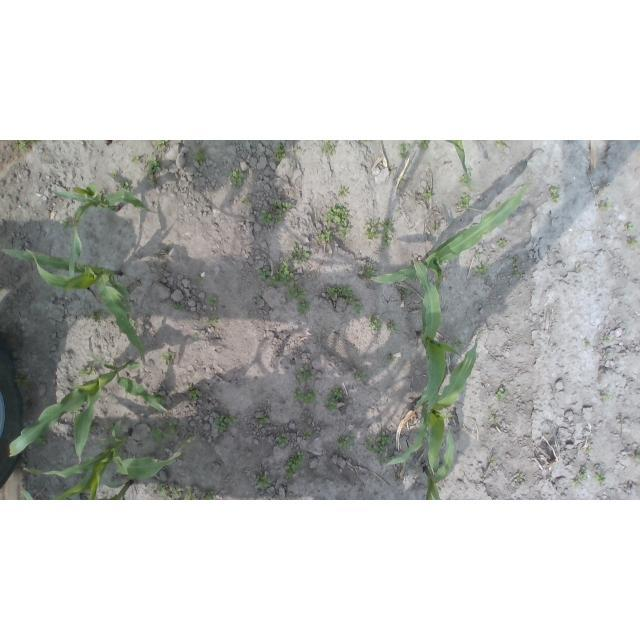Maize: (9, 337, 169, 464), (367, 181, 534, 284), (0, 246, 146, 362), (24, 416, 185, 500), (386, 333, 479, 466), (51, 181, 159, 278), (423, 425, 458, 500), (430, 141, 474, 192), (19, 481, 133, 500)
Weeds: (324, 205, 351, 228), (328, 286, 357, 305), (367, 431, 391, 453), (285, 452, 306, 477), (276, 262, 296, 285), (157, 483, 184, 500), (324, 388, 343, 412), (256, 269, 280, 287), (295, 364, 313, 388), (289, 244, 310, 264), (215, 415, 237, 434), (285, 283, 307, 299), (381, 220, 393, 247), (337, 436, 356, 453), (365, 219, 380, 240), (296, 390, 317, 405), (270, 199, 292, 213), (256, 472, 272, 491), (146, 156, 162, 173), (297, 299, 312, 317), (151, 429, 170, 443), (230, 168, 243, 188), (32, 428, 48, 444), (456, 192, 470, 210), (369, 315, 384, 331), (275, 142, 286, 163), (14, 141, 29, 156), (188, 384, 201, 400), (194, 148, 206, 165), (380, 452, 397, 464), (152, 391, 166, 405), (13, 373, 27, 387), (352, 301, 365, 316), (276, 433, 289, 448), (338, 222, 350, 238), (360, 265, 376, 277), (399, 143, 410, 160), (322, 140, 335, 154), (476, 263, 489, 277), (260, 211, 272, 226), (460, 174, 472, 189), (548, 189, 560, 204), (80, 367, 97, 377), (320, 230, 333, 243), (120, 180, 133, 193), (400, 288, 413, 300), (594, 472, 606, 485), (184, 488, 196, 501), (258, 414, 268, 429), (628, 238, 640, 250), (154, 140, 168, 150), (495, 387, 505, 401), (92, 312, 104, 323), (168, 420, 178, 433), (162, 352, 172, 365), (208, 310, 216, 326), (424, 188, 433, 202), (169, 301, 184, 309), (600, 201, 613, 210), (60, 220, 74, 228), (200, 492, 214, 500), (418, 140, 430, 149), (496, 140, 509, 148), (69, 408, 79, 418), (304, 429, 313, 440), (496, 240, 508, 248), (580, 468, 587, 481), (208, 295, 217, 305), (356, 372, 366, 381), (453, 340, 464, 348), (338, 188, 347, 197), (601, 393, 610, 402), (431, 224, 441, 232), (106, 423, 114, 433), (603, 336, 613, 344), (625, 223, 635, 231), (489, 417, 500, 424), (131, 156, 139, 165), (195, 276, 203, 285), (488, 457, 496, 466), (514, 268, 522, 277), (242, 196, 250, 204), (476, 252, 484, 260), (388, 325, 397, 332), (516, 473, 523, 482), (17, 462, 27, 468), (388, 355, 395, 362), (274, 215, 282, 221), (186, 435, 192, 443), (110, 171, 118, 177), (635, 453, 640, 462), (194, 333, 200, 340), (89, 427, 96, 433), (129, 319, 134, 327), (389, 166, 395, 172), (584, 341, 590, 347), (573, 479, 579, 485), (256, 293, 261, 300), (605, 352, 612, 357), (362, 140, 370, 144), (399, 180, 405, 185), (101, 189, 106, 195), (507, 256, 513, 261), (588, 448, 593, 453), (293, 148, 299, 152), (488, 408, 492, 413)
